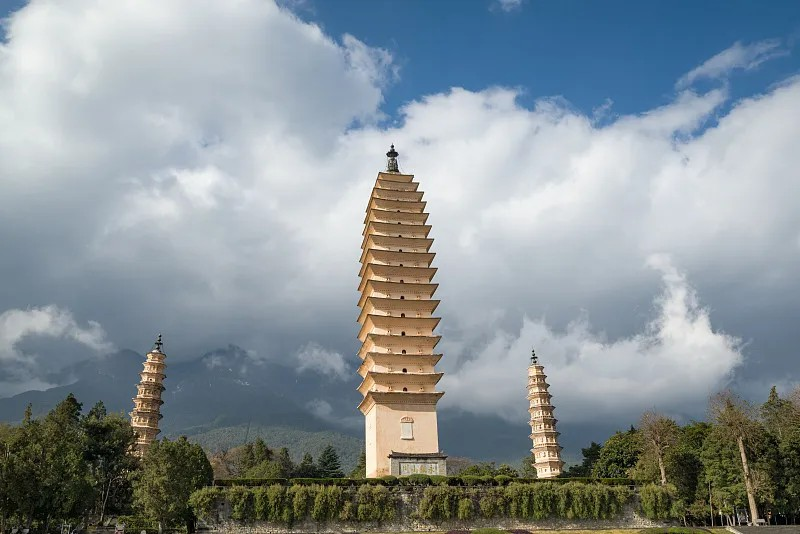ThreePagoda: (356, 143, 445, 481)
